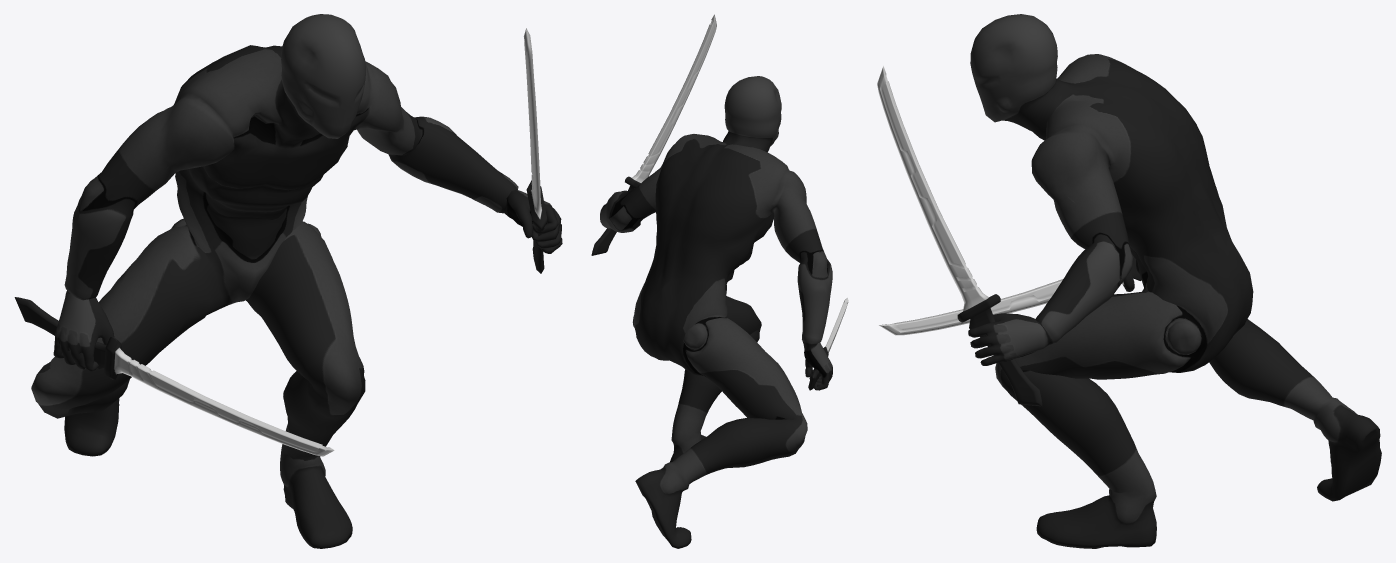
3 views of the same model, side by side, from view 1: azimuth 30°, elevation 25°; view 2: azimuth 150°, elevation 25°; view 3: azimuth 270°, elevation 25° (orthographic). The views are drawn at different scales.
Parts seen in each view (by area): view 1: Cyborg_Ninja_Killer, Sword_l001, Sword_l; view 2: Cyborg_Ninja_Killer, Sword_l, Sword_l001; view 3: Cyborg_Ninja_Killer, Sword_l, Sword_l001.
Part boxes in pixels (left/top/right/bottom): Cyborg_Ninja_Killer: left=31, top=14, right=562, bottom=548; Sword_l001: left=14, top=297, right=334, bottom=456; Sword_l: left=523, top=28, right=547, bottom=273; Cyborg_Ninja_Killer: left=600, top=76, right=832, bottom=548; Sword_l: left=591, top=14, right=716, bottom=255; Sword_l001: left=808, top=297, right=848, bottom=390; Cyborg_Ninja_Killer: left=968, top=14, right=1381, bottom=548; Sword_l: left=877, top=66, right=1042, bottom=406; Sword_l001: left=879, top=254, right=1141, bottom=335.
Bounding box in the file's own units: 108 × 134 × 119.
2 materials, 2 textured.
